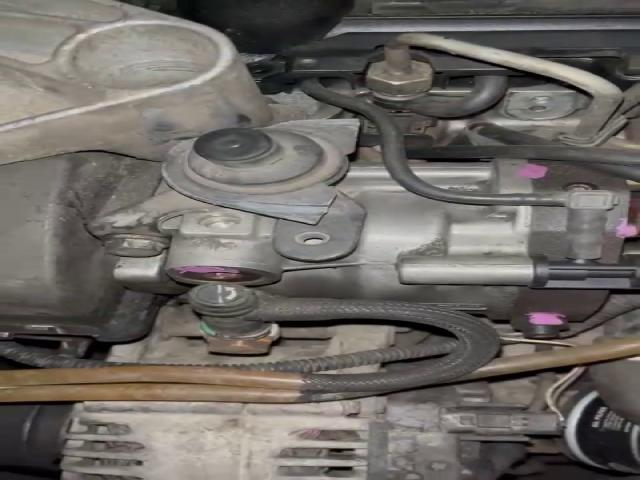alternator: (63, 383, 562, 480)
high_pressure_pump: (106, 152, 639, 339)
